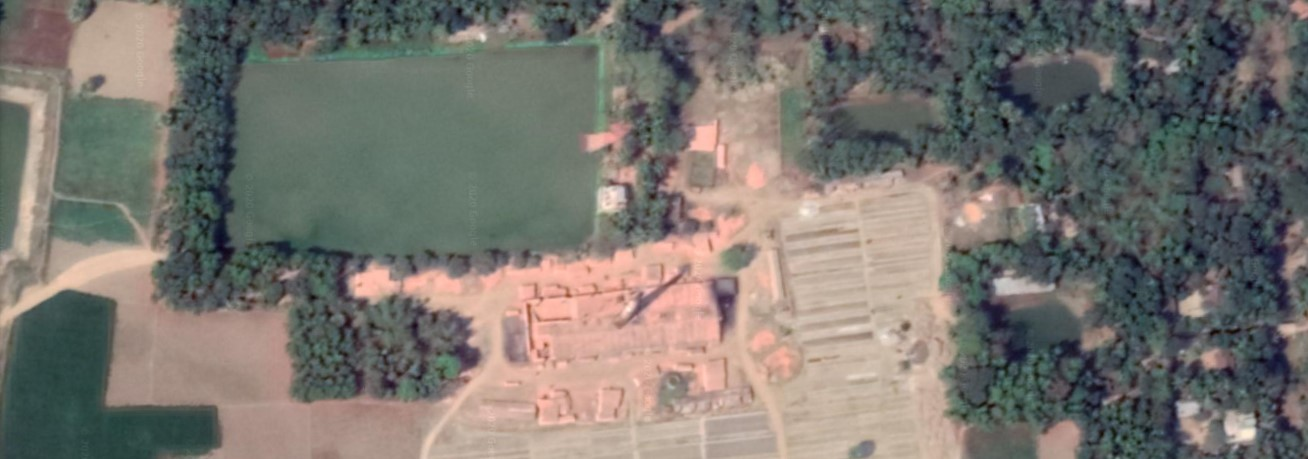kiln: (525, 280, 723, 351)
